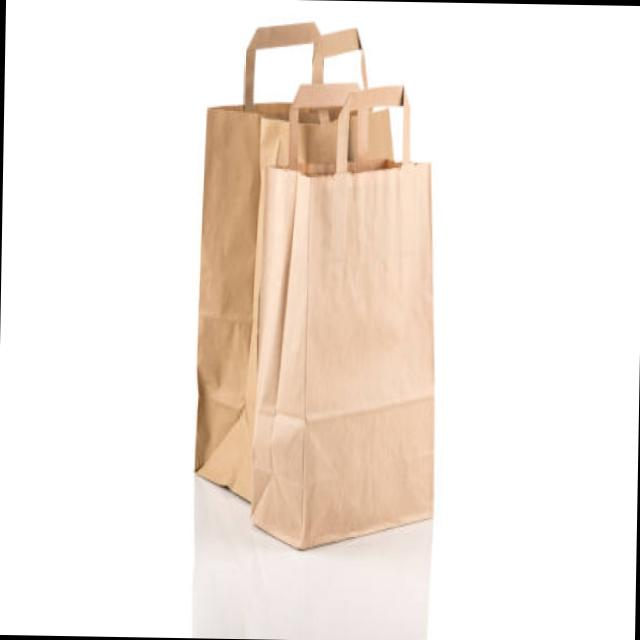electronic: (193, 19, 442, 551)
